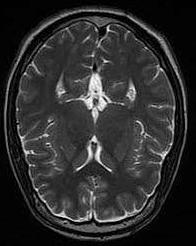Normal_Brain: (1, 4, 196, 246)
